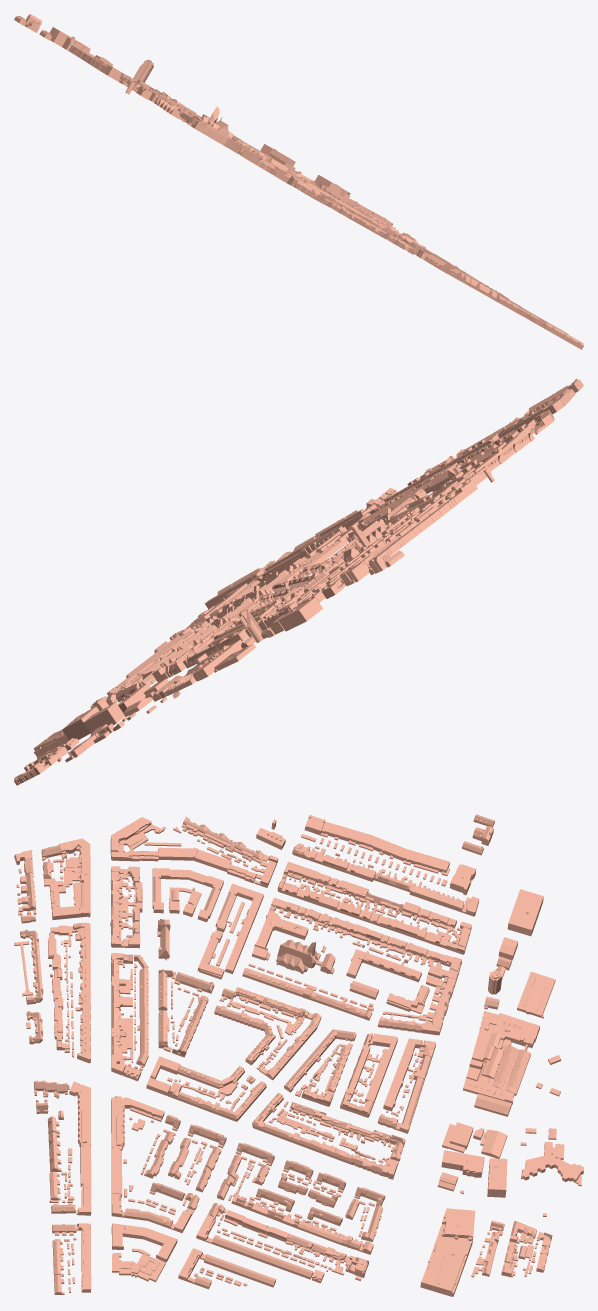
3 renders of one model, top to bottom at view 1: azimuth 30°, elevation 25°; view 2: azimuth 150°, elevation 25°; view 3: azimuth 270°, elevation 25°, orthographic. The views are drawn at different scales.
Bounding box in the file's own units: 522 × 394 × 655.
